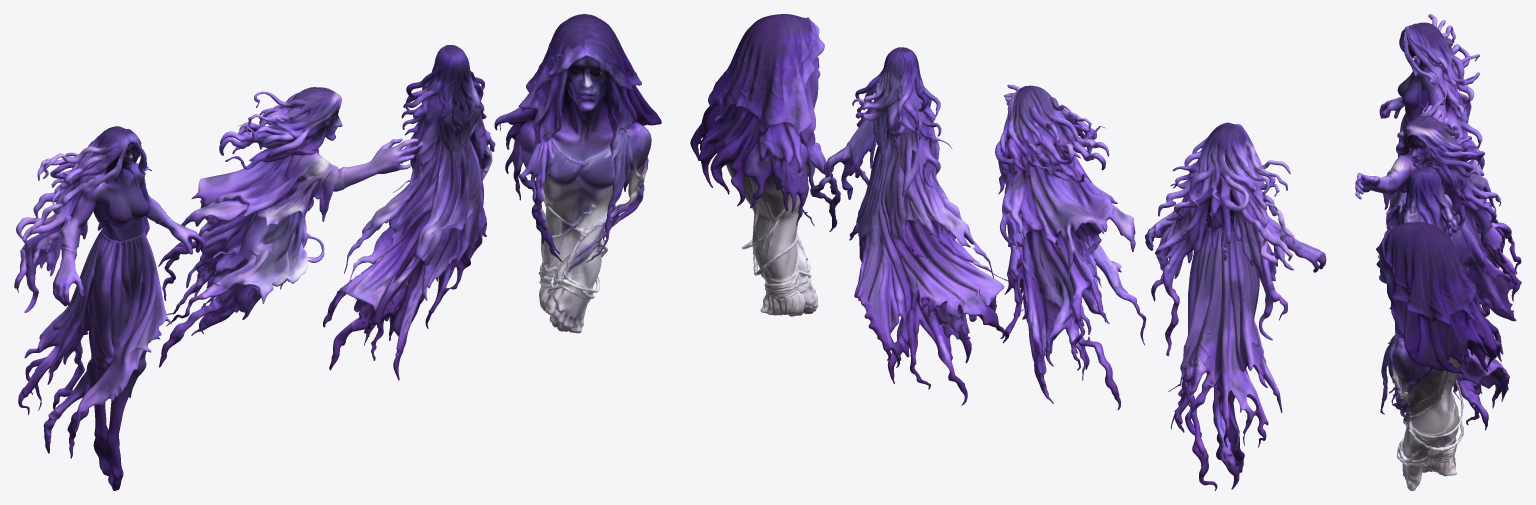
File: ghost-figures.glb
3 views of the same model, side by side, from view 1: azimuth 30°, elevation 25°; view 2: azimuth 150°, elevation 25°; view 3: azimuth 270°, elevation 25° (orthographic). The views are drawn at different scales.
Visible parts, largest first — view 1: model; view 2: model; view 3: model.
Part boxes in pixels (box(x1,y1,x2,y2)): model: box(14, 14, 661, 490); model: box(690, 14, 1326, 490); model: box(1355, 14, 1521, 490).
Bounding box in the file's own units: 1.89 × 1.04 × 0.5011.
Materials: 1 (1 with a texture image).
